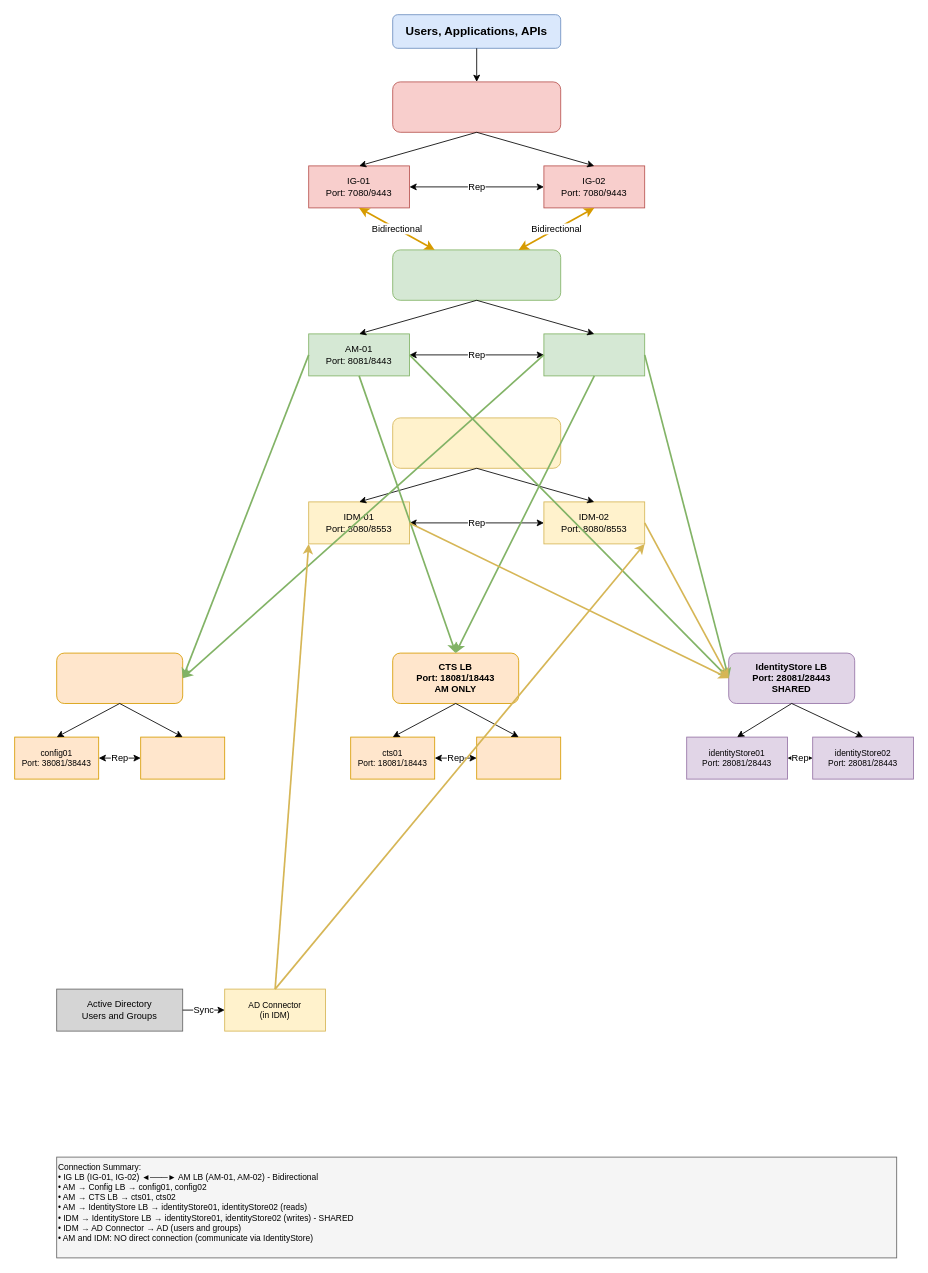
Image size: 928x1273. Some labels were removed from this diagram. Each missing label, with the box of its shape:
AM Load Balancer Port: 8081/8443: (392, 249, 561, 300)
AM-02 Port: 8081/8443: (543, 333, 645, 376)
Config LB Port: 38081/38443 AM ONLY: (56, 652, 183, 704)
config02 Port: 38081/38443: (140, 736, 225, 779)
cts02 Port: 18081/18443: (476, 736, 561, 779)
IDM Load Balancer Port: 8080/8553: (392, 417, 561, 468)
IG Load Balancer Port: 443/9443: (392, 81, 561, 132)
